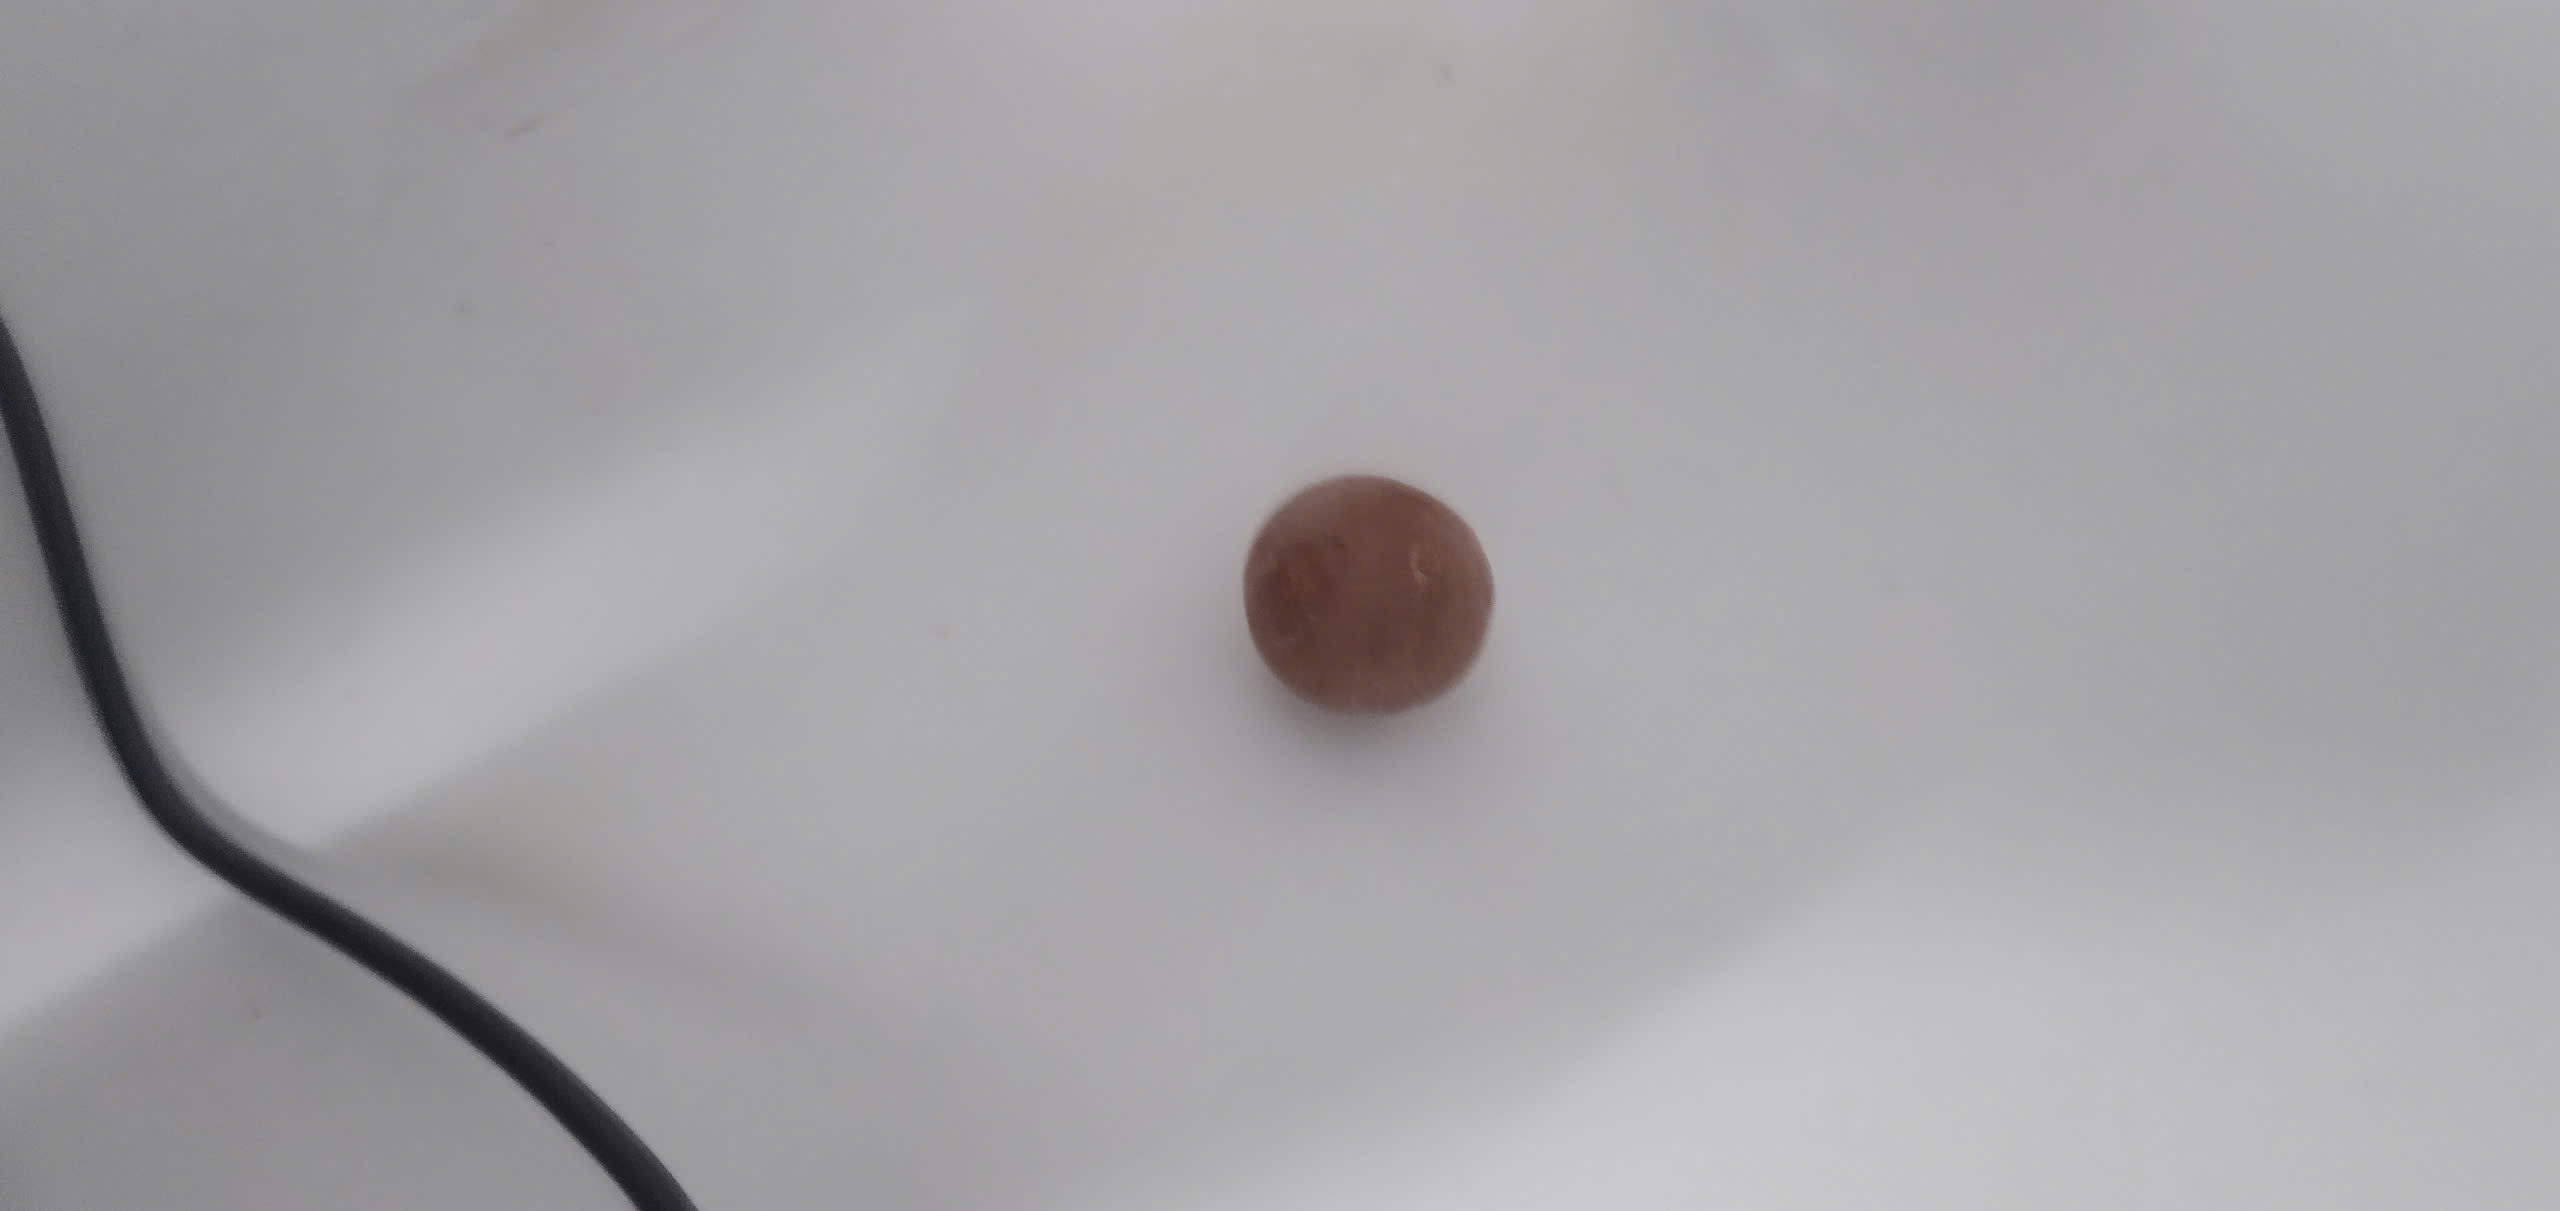mac: (1239, 473, 1492, 718)
